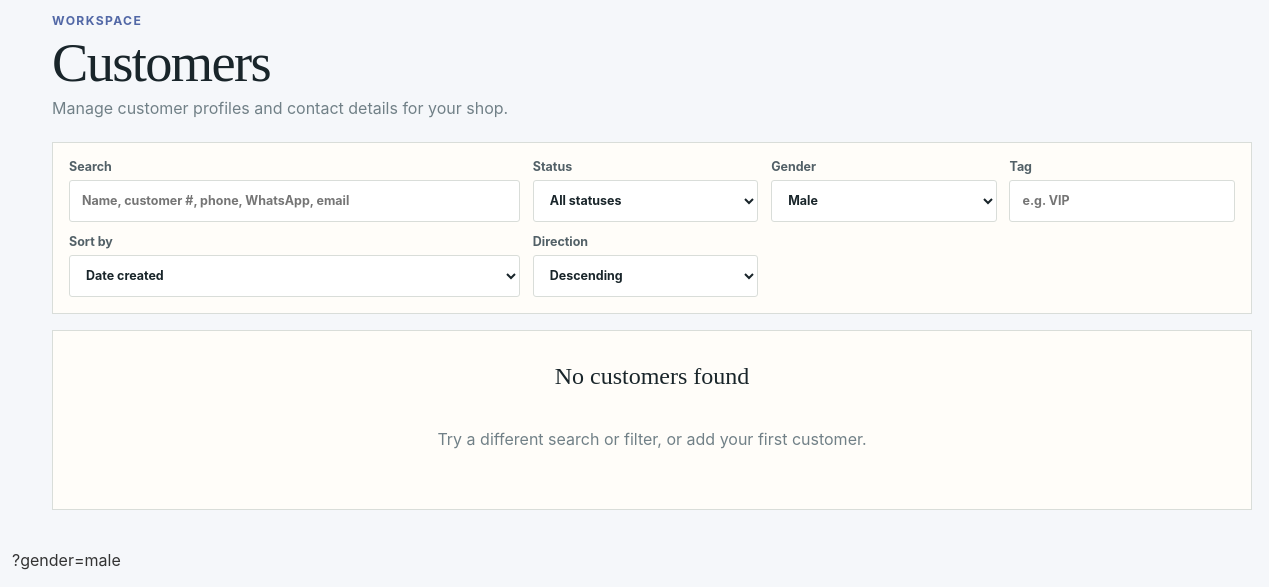
Test: customer feature › keeps customer filters synchronized with URL query parameters
The image size is (1269, 587).
Select "Active" in the dropdown labelled "Status" at {"x": 646, "y": 201}, box left=533, top=180, right=758, bottom=222
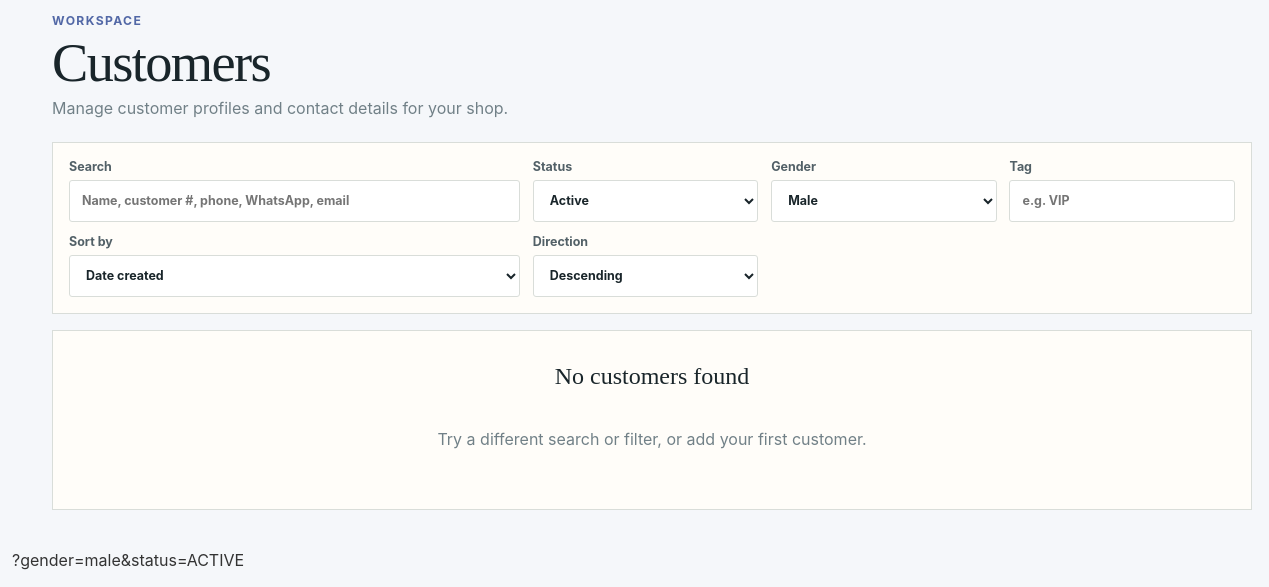
Expected: the text with test id "current-search" shows "gender=male", left=12, top=550, right=244, bottom=570
Now the text with test id "current-search" shows "status=ACTIVE", box left=12, top=550, right=244, bottom=570
